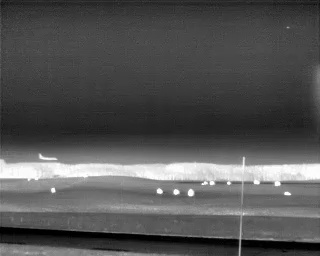AIRPLANE: (284, 23, 291, 31)
